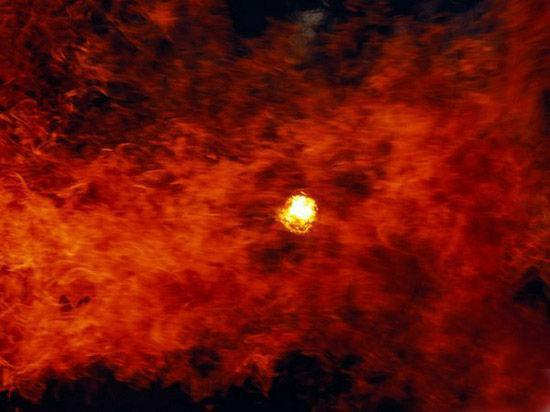fire: (0, 50, 545, 410)
